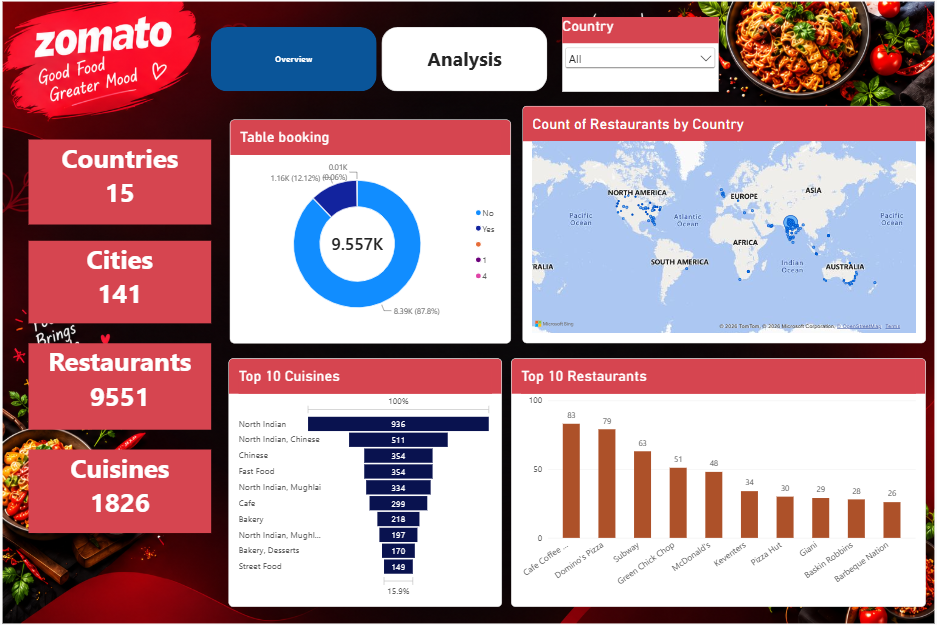

This screenshot's page, from the dashboard's own definition file:
{"tool":"powerbi","page":{"name":"Overview","canvas":[1920,1080],"ordinal":0},"visuals":[{"type":"textbox","box":[220.2,224.4,329.3,724.5],"z":0},{"type":"textbox","box":[234.6,251.1,300.5,140],"z":1000},{"type":"textbox","box":[234.6,417.8,300.5,135.8],"z":2000},{"type":"textbox","box":[234.6,586.6,300.5,142],"z":3000},{"type":"textbox","box":[234.6,761.6,300.5,137.9],"z":4000},{"type":"pageNavigator","box":[536.2,66,555.3,106.4],"z":5000},{"type":"slicer","title":"Country","fields":{"Values":["Zomato Restaurant Dataset.Country Code"]},"box":[1113.6,49.4,257.3,123.5],"z":6000},{"type":"donutChart","title":"Table booking","fields":{"Category":["Zomato Restaurant Dataset.Has Table booking"],"Y":["CountNonNull(Zomato Restaurant Dataset.Has Table booking)"]},"box":[566,218.2,463.1,368.4],"z":7000},{"type":"funnel","title":"Top 10 Cuisines","fields":{"Category":["Zomato Restaurant Dataset.Cuisines"],"Y":["CountNonNull(Zomato Restaurant Dataset.Restaurant Name)"]},"box":[564,611.3,450.8,409.6],"z":8000},{"type":"clusteredColumnChart","title":"Top 10 Restaurants","fields":{"Category":["Zomato Restaurant Dataset.Restaurant Name"],"Y":["CountNonNull(Zomato Restaurant Dataset.Restaurant Name)"]},"box":[1029.2,611.3,683.4,409.6],"z":9000},{"type":"map","title":"Count of Restaurants by Country","fields":{"Category":["Zomato Restaurant Dataset.City"],"Size":["CountNonNull(Zomato Restaurant Dataset.Restaurant Name)"]},"box":[1047.7,195.5,664.8,391.1],"z":10000}]}

Visuals, with their boxes on the page's 1920x1080 design canvas (x1, y1, x2, y2). These are canvas units, not pixel positions in the 937x625 screenshot, which may show the page scaled, cropped or inside an application window:
textbox: bbox(220, 224, 550, 949)
textbox: bbox(235, 251, 535, 391)
textbox: bbox(235, 418, 535, 554)
textbox: bbox(235, 587, 535, 729)
textbox: bbox(235, 762, 535, 900)
pageNavigator: bbox(536, 66, 1092, 172)
"Country" slicer: bbox(1114, 49, 1371, 173)
"Table booking" donutChart: bbox(566, 218, 1029, 587)
"Top 10 Cuisines" funnel: bbox(564, 611, 1015, 1021)
"Top 10 Restaurants" clusteredColumnChart: bbox(1029, 611, 1713, 1021)
"Count of Restaurants by Country" map: bbox(1048, 196, 1712, 587)
